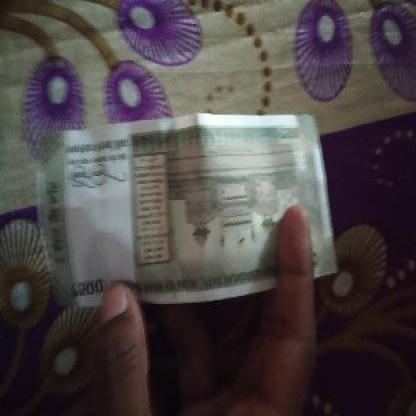New500Back: (44, 115, 328, 304)
